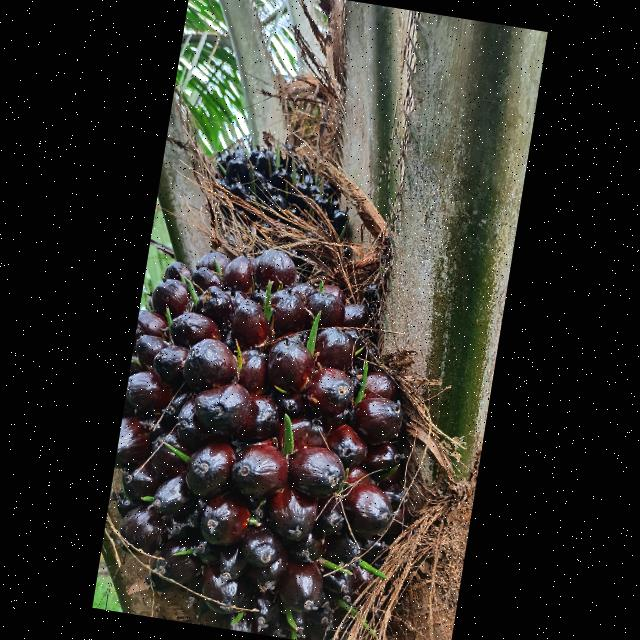Unripe: (117, 246, 414, 622)
